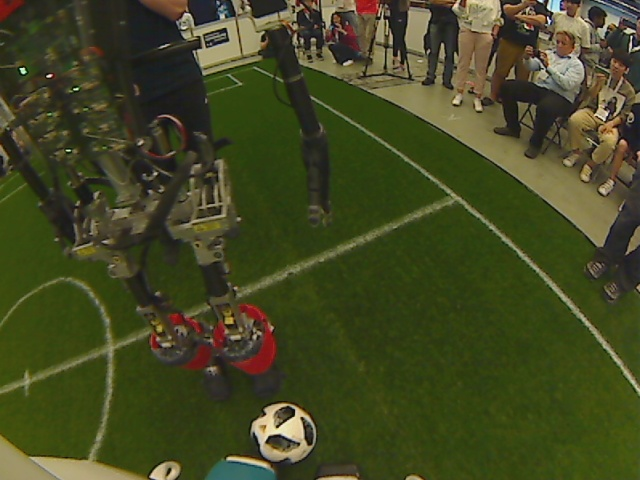ball: (247, 401, 319, 465)
